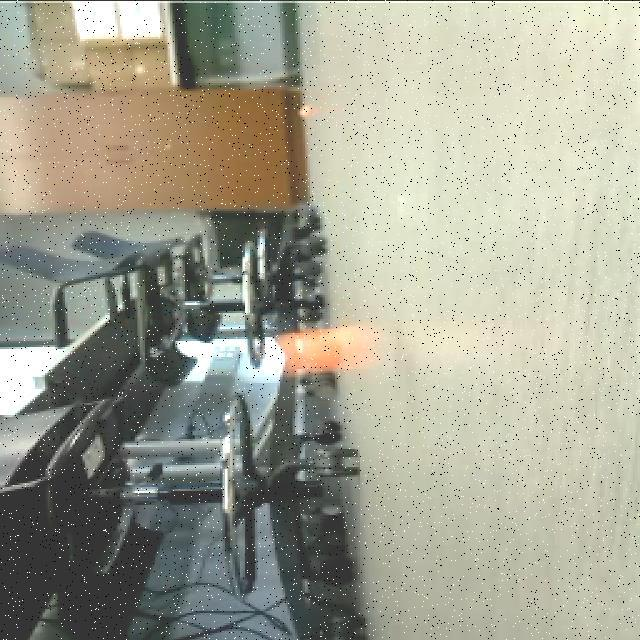ping-pong-ball: (289, 328, 349, 379)
